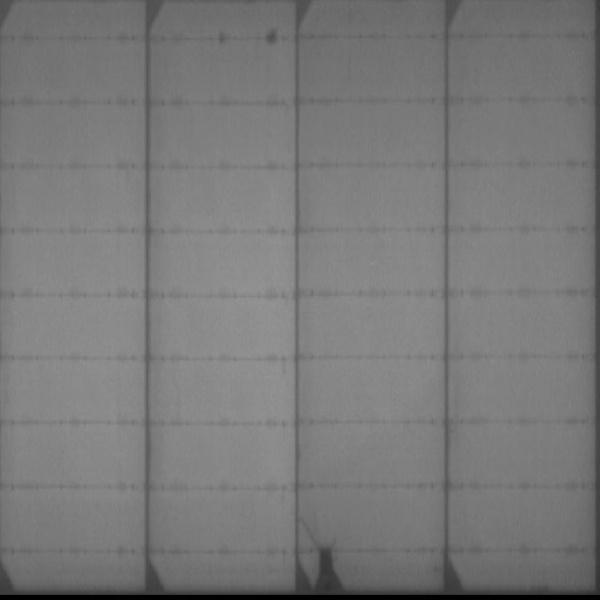broken: (299, 508, 350, 592)
